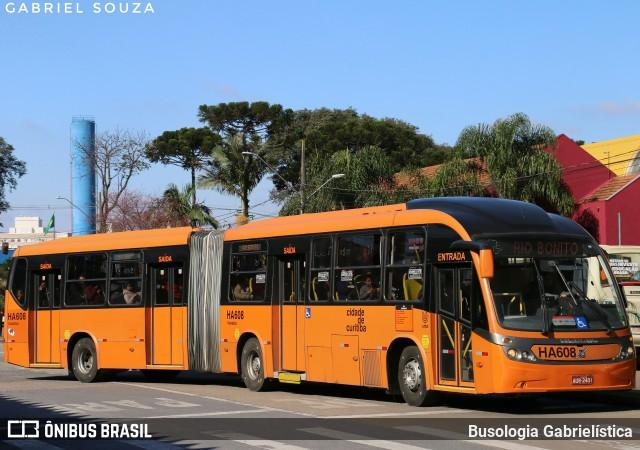RIO BONITO: (508, 238, 581, 257)
